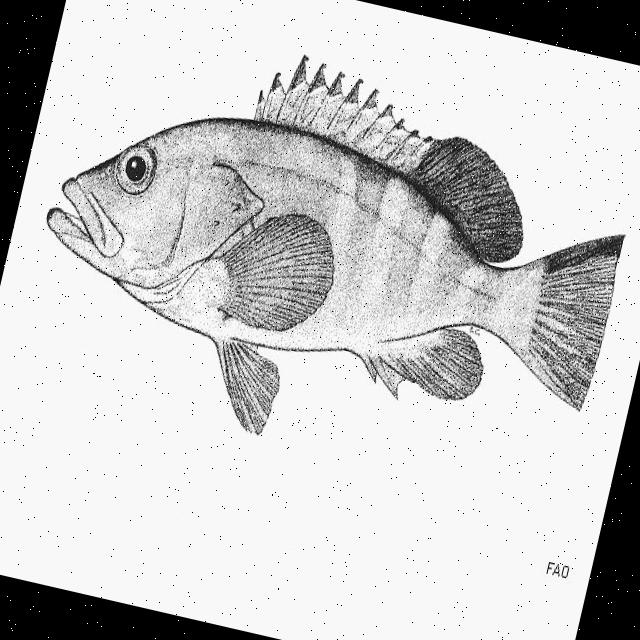ikan: (8, 3, 640, 506)
